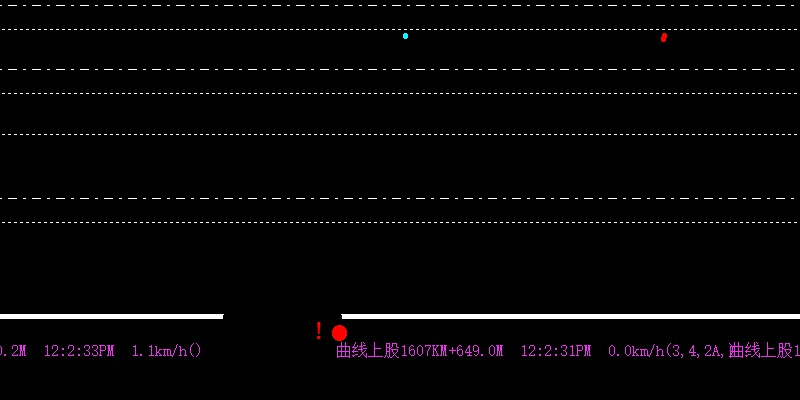circle: (331, 322, 348, 342)
face_down: (659, 24, 669, 46), (402, 23, 409, 42)
